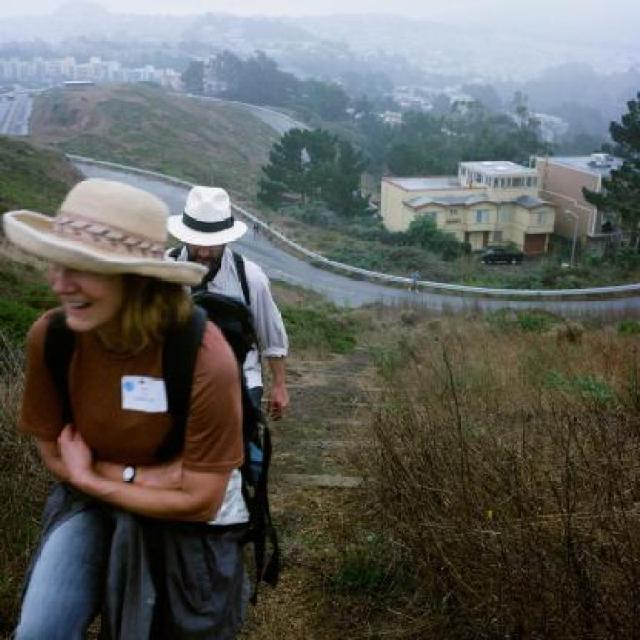backpack: (160, 300, 209, 443), (183, 289, 257, 365), (46, 308, 77, 430)
